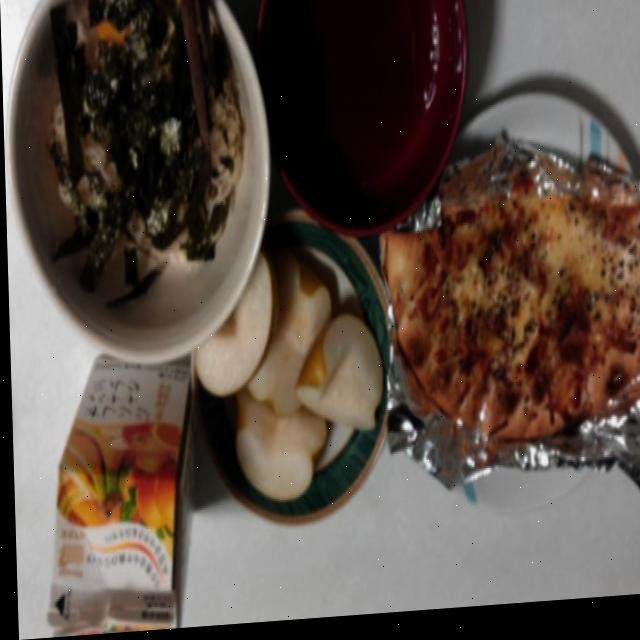三明治: (377, 152, 640, 462)
